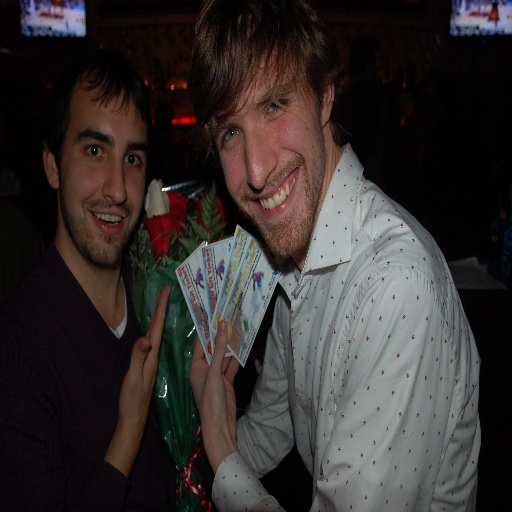hand: (118, 284, 169, 442), (189, 323, 241, 461)
